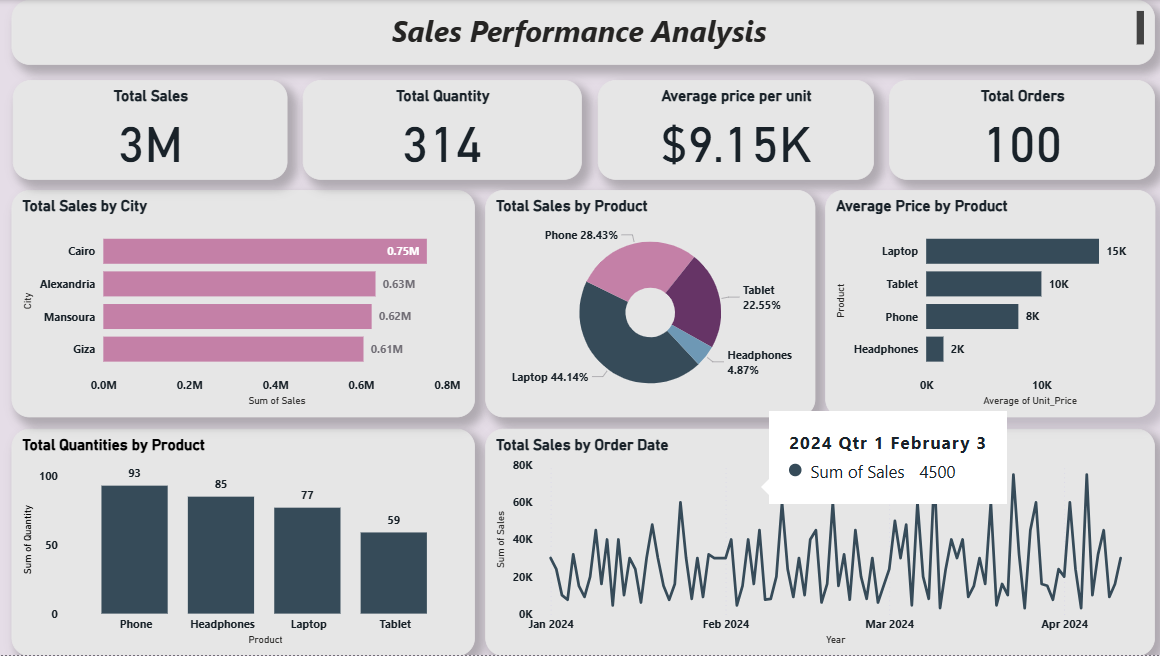

Layout of this report page (visuals, bound fields, positions):
{"tool":"powerbi","page":{"name":"Page 1","canvas":[1280,720],"ordinal":0},"visuals":[{"type":"textbox","box":[13.7,0,1255.6,71.4],"z":0},{"type":"clusteredColumnChart","title":"Total Quantities by Product","fields":{"Category":["salse.Product"],"Y":["Sum(salse.Quantity)"]},"box":[13.7,470.7,509.1,249.7],"z":1},{"type":"clusteredBarChart","title":"Total Sales by City","fields":{"Category":["salse.City"],"Y":["Sum(salse.Sales)"]},"box":[13.7,208.6,509.1,249.7],"z":2},{"type":"card","title":"Total Sales","fields":{"Values":["Sum(salse.Sales)"]},"box":[15.1,87.8,301.9,109.8],"z":3},{"type":"card","title":"Total Quantity","fields":{"Values":["Sum(salse.Quantity)"]},"box":[333.4,87.8,306,109.8],"z":4},{"type":"card","title":"Average price per unit","fields":{"Values":["Avg(salse.Unit_Price)"]},"box":[657.3,87.8,303.3,109.8],"z":5},{"type":"card","title":"Total Orders","fields":{"Values":["CountNonNull(salse.Order_ID)"]},"box":[977,87.8,292.3,109.8],"z":6},{"type":"donutChart","title":"Total Sales by Product","fields":{"Y":["Sum(salse.Sales)"],"Category":["salse.Product"]},"box":[533.8,208.6,362.3,249.7],"z":7},{"type":"lineChart","title":"Total Sales by Order Date","fields":{"Y":["Sum(salse.Sales)"],"Category":["salse.Order_Date.Variation.Date Hierarchy.Year","salse.Order_Date.Variation.Date Hierarchy.Quarter","salse.Order_Date.Variation.Date Hierarchy.Month","salse.Order_Date.Variation.Date Hierarchy.Day"]},"box":[533.8,470.7,735.5,249.7],"z":8},{"type":"barChart","title":"Average Price by Product","fields":{"Y":["Avg(salse.Unit_Price)"],"Category":["salse.Product"]},"box":[907,208.6,362.3,249.7],"z":9}]}

Visuals, with their boxes in screenshot pixels (x1, y1, x2, y2), scaled from the page's 1280x720 canvas onto the 1160x656 screenshot:
textbox: bbox=(12, 0, 1150, 65)
"Total Quantities by Product" clusteredColumnChart: bbox=(12, 429, 474, 655)
"Total Sales by City" clusteredBarChart: bbox=(12, 190, 474, 418)
"Total Sales" card: bbox=(14, 80, 287, 180)
"Total Quantity" card: bbox=(302, 80, 579, 180)
"Average price per unit" card: bbox=(596, 80, 871, 180)
"Total Orders" card: bbox=(885, 80, 1150, 180)
"Total Sales by Product" donutChart: bbox=(484, 190, 812, 418)
"Total Sales by Order Date" lineChart: bbox=(484, 429, 1150, 655)
"Average Price by Product" barChart: bbox=(822, 190, 1150, 418)
